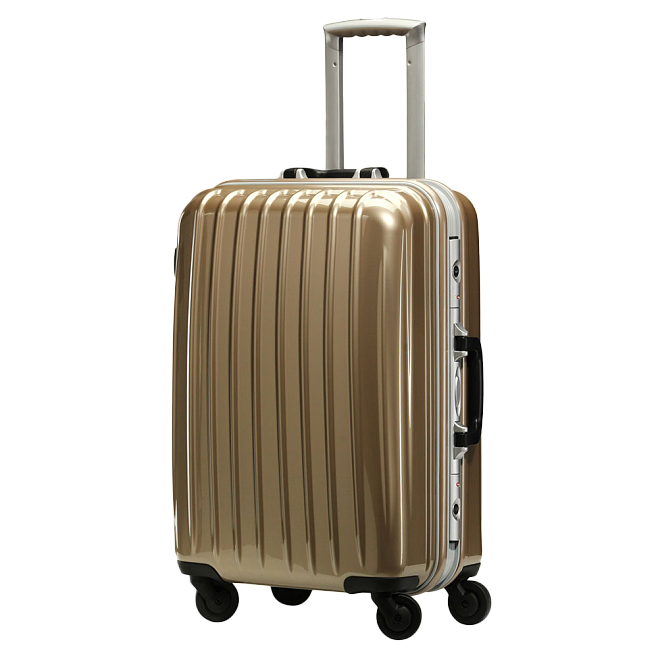box: (171, 179, 482, 592)
handle: (452, 323, 484, 460), (278, 167, 390, 179)
lock: (449, 473, 463, 543), (450, 236, 462, 309)
wheel: (375, 592, 421, 640), (448, 581, 492, 625), (194, 582, 240, 622), (270, 583, 313, 606)
